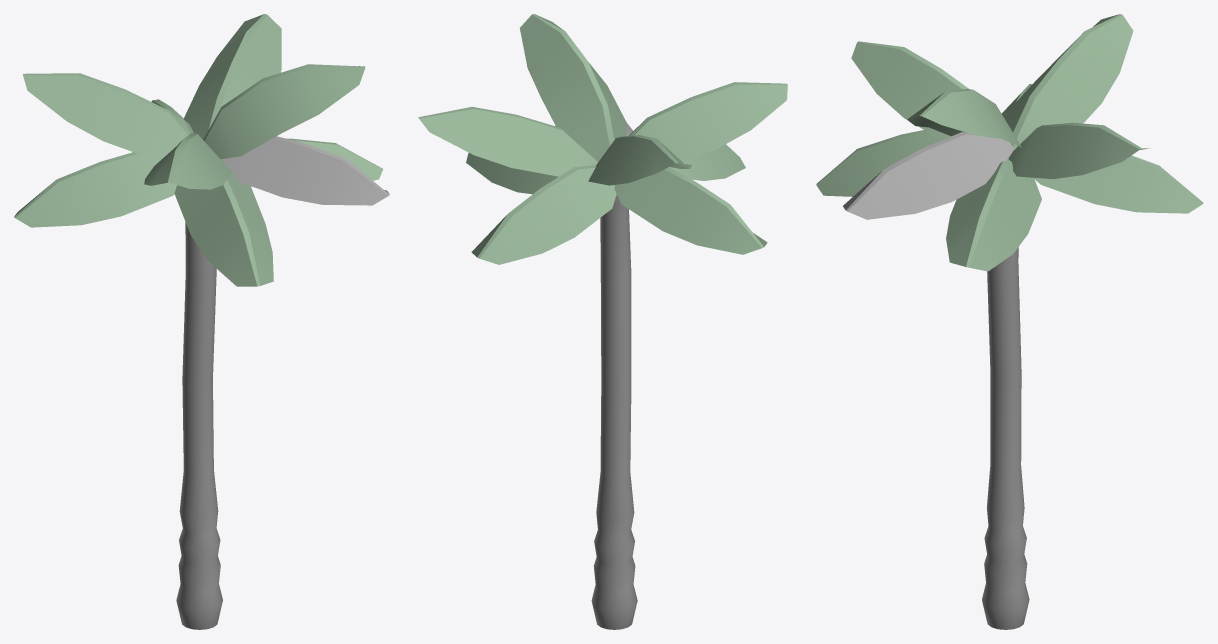
Rendered from full_tree1.fbx.
3 views of the same model, side by side, from view 1: azimuth 30°, elevation 25°; view 2: azimuth 150°, elevation 25°; view 3: azimuth 270°, elevation 25° (orthographic). The views are drawn at different scales.
Parts seen in each view (by area): view 1: pCylinder2, pPlane5, pPlane6, pPlane2, pPlane3, pPlane9, pPlane7, pPlane8, pPlane4; view 2: pCylinder2, pPlane5, pPlane1, pPlane7, pPlane3, pPlane8, pPlane6, pPlane4, pPlane2; view 3: pCylinder2, pPlane9, pPlane6, pPlane4, pPlane1, pPlane7, pPlane8, pPlane5, pPlane2.
Part boxes in pixels (x1,y1,x2,y2): pCylinder2: (176,222,222,629); pPlane5: (203,64,365,158); pPlane6: (23,73,189,160); pPlane2: (174,172,273,286); pPlane3: (14,152,176,227); pPlane9: (221,136,389,205); pPlane7: (183,14,281,139); pPlane8: (144,133,232,189); pPlane4: (251,138,383,186); pCylinder2: (591,194,637,629); pPlane5: (519,14,626,161); pPlane1: (471,165,616,264); pPlane7: (418,106,598,176); pPlane3: (614,167,767,254); pPlane8: (629,82,787,161); pPlane6: (588,135,691,185); pPlane4: (466,153,598,194); pPlane2: (668,144,745,180); pCylinder2: (982,147,1029,629); pPlane9: (843,132,1013,219); pPlane6: (1003,14,1133,147); pPlane4: (946,156,1041,271); pPlane1: (1033,155,1203,213); pPlane7: (1008,122,1148,179); pPlane8: (851,41,969,140); pPlane5: (907,89,1021,147); pPlane2: (816,130,941,196).
Size of the model in its own units: 18.6 by 29.78 by 18.35.
